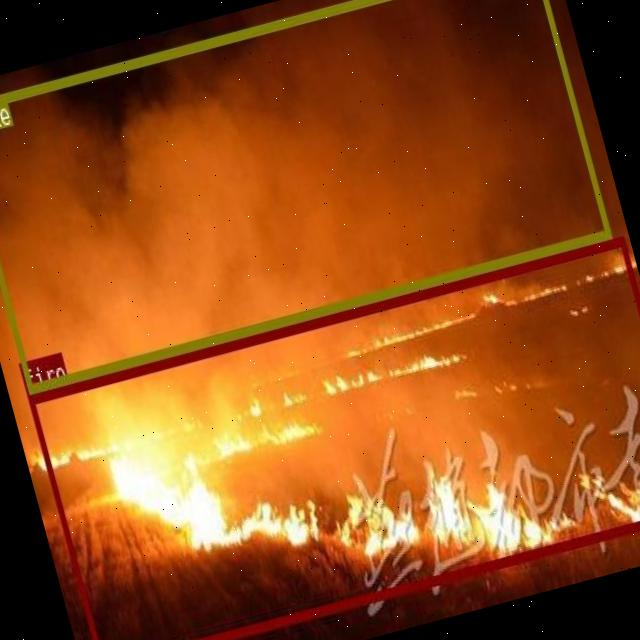fire: (26, 235, 640, 640)
smoke: (0, 0, 610, 392)
